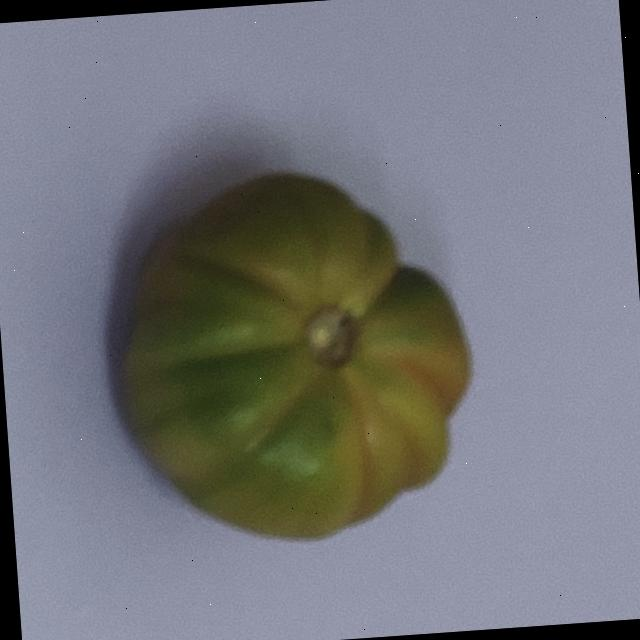tomato: (31, 90, 517, 640)
